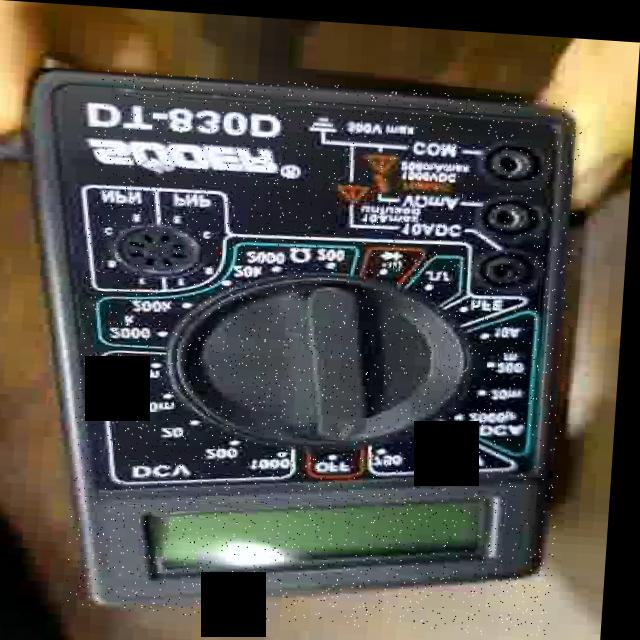multimeter: (71, 67, 585, 631)
